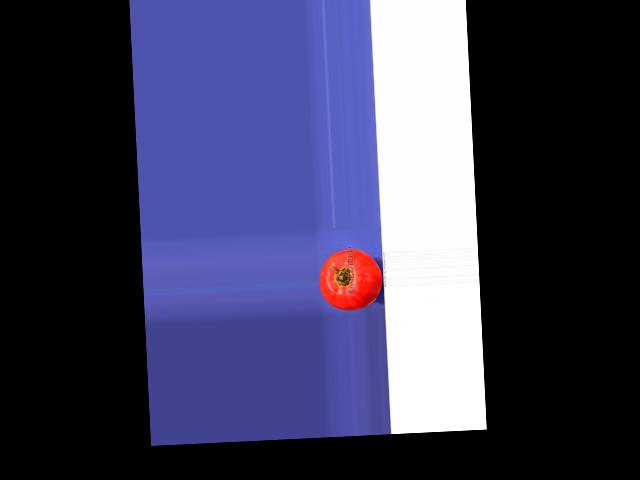tomato: (318, 247, 382, 312)
